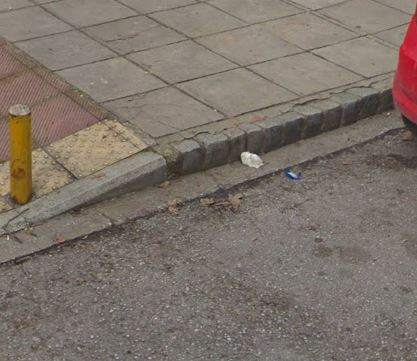trash: (235, 147, 268, 171), (282, 166, 307, 182)
